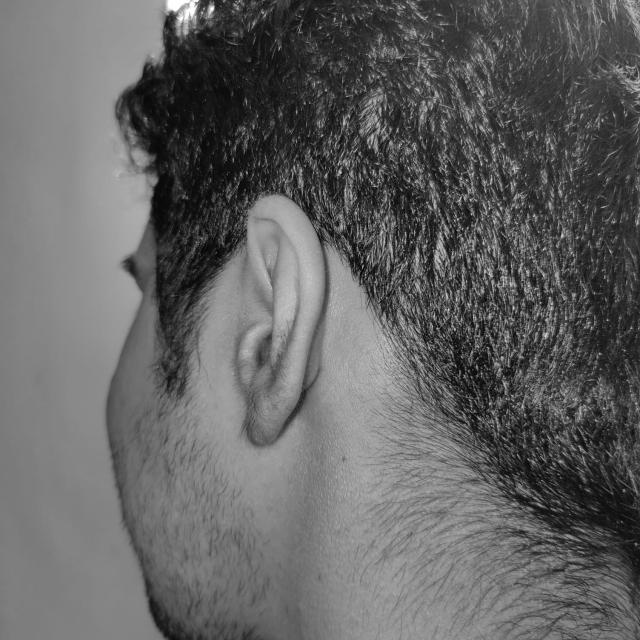ear: (236, 195, 324, 445)
